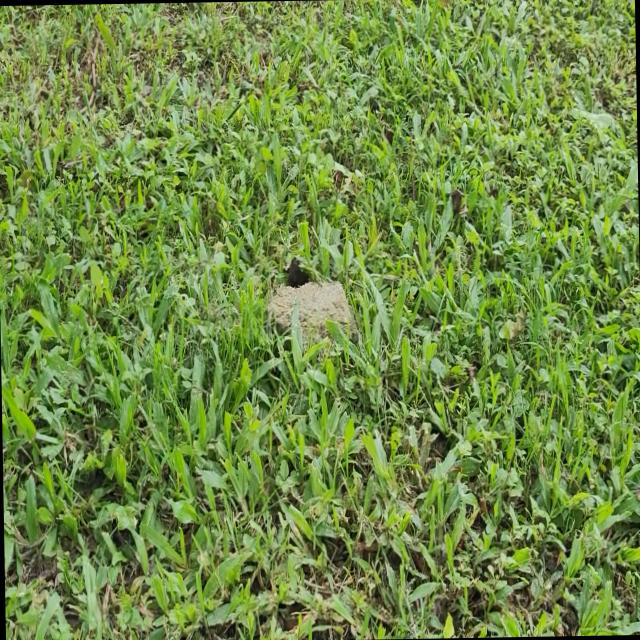grass: (0, 166, 640, 640)
stone: (266, 281, 356, 342)
